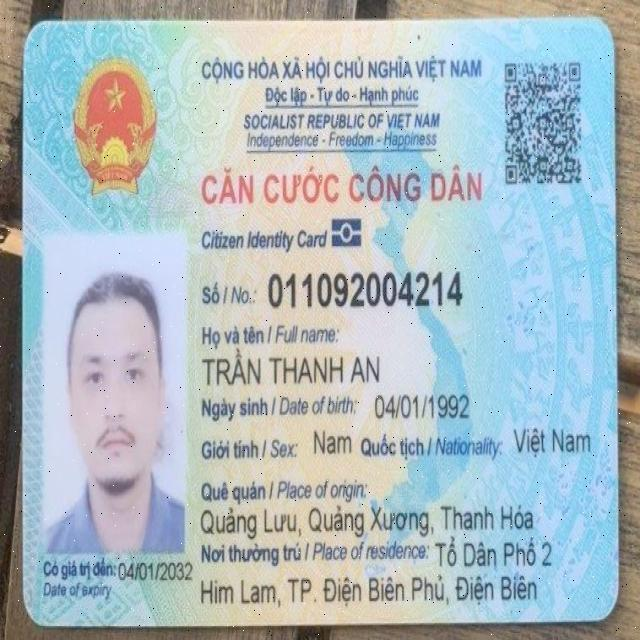current_place: (200, 568, 539, 610), (435, 530, 554, 571)
dob: (373, 388, 470, 422)
expire_date: (115, 559, 196, 583)
gender: (312, 423, 354, 460)
id: (267, 271, 466, 311)
name: (198, 347, 382, 391)
nationality: (509, 422, 593, 462)
origin_place: (197, 502, 538, 539)
qr: (501, 52, 584, 191)
